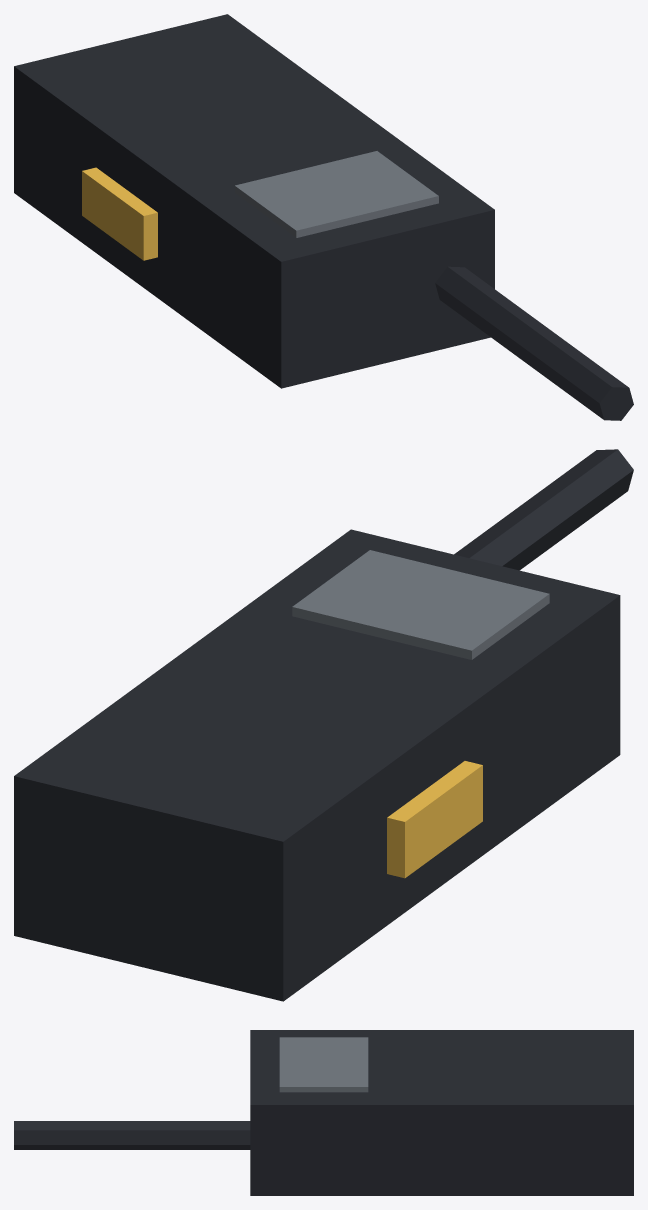
Rendered from radio.glb.
3 views of the same model, one above another, from view 1: azimuth 30°, elevation 25°; view 2: azimuth 150°, elevation 25°; view 3: azimuth 270°, elevation 25° (orthographic). The views are drawn at different scales.
Parts seen in each view (by area): view 1: radio_mesh; view 2: radio_mesh; view 3: radio_mesh.
Part boxes in pixels (bbox=[...]): radio_mesh: bbox=[14, 14, 633, 420]; radio_mesh: bbox=[14, 449, 633, 1001]; radio_mesh: bbox=[14, 1030, 633, 1195].
Bounding box in the file's own units: 0.064 × 0.036 × 0.21.
Materials: 1 (1 with a texture image).
